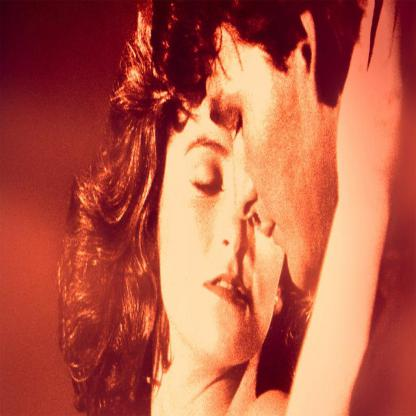face: (160, 80, 269, 365), (209, 27, 319, 290)
